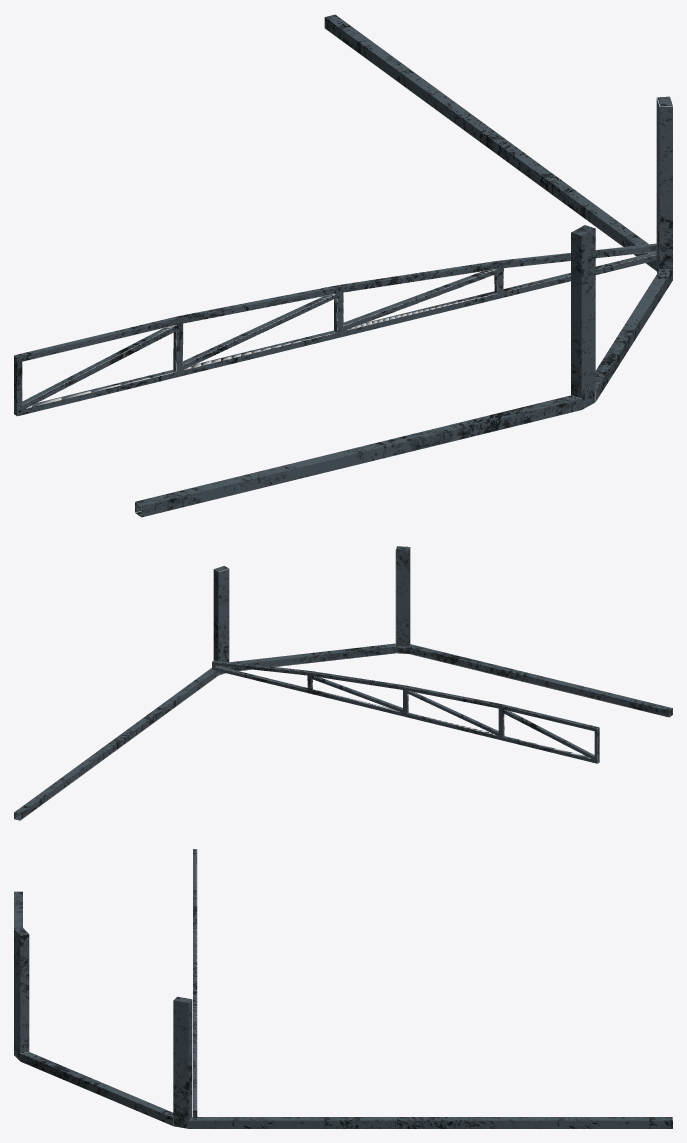
The model's file is CeilingFrames.FBX.
3 views of the same model, one above another, from view 1: azimuth 30°, elevation 25°; view 2: azimuth 150°, elevation 25°; view 3: azimuth 270°, elevation 25° (orthographic). The views are drawn at different scales.
Parts seen in each view (by area): view 1: Shape001, Final_shape004; view 2: Shape001, Final_shape004; view 3: Shape001, Final_shape004.
Boxes of the visible parts, x1,y1,x2,y2 form: Shape001: (135,14,672,517); Final_shape004: (14,243,656,416); Shape001: (14,546,672,820); Final_shape004: (212,660,599,763); Shape001: (14,891,672,1128); Final_shape004: (193,849,197,1119).
Size of the model in its own units: 3029 by 775 by 3676.
